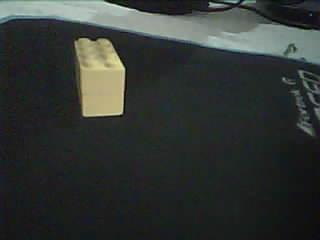lego: (71, 35, 126, 118)
